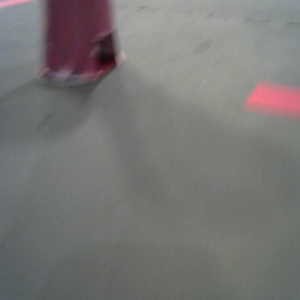middle: (34, 1, 125, 84)
